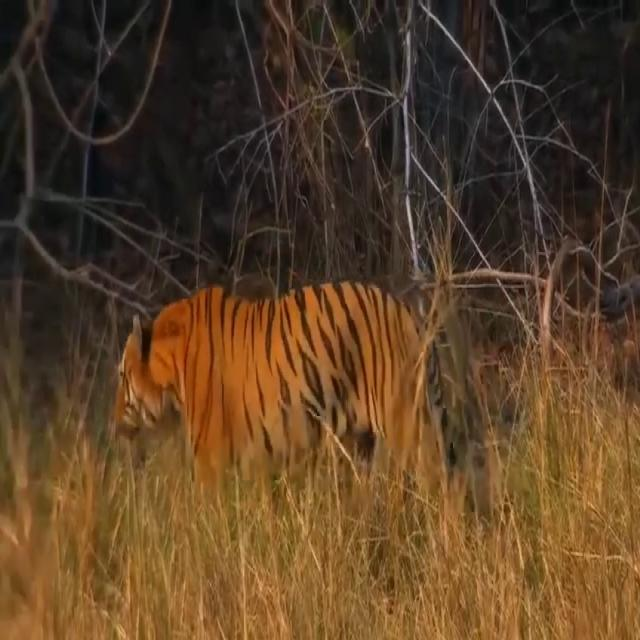tiger: (114, 282, 478, 512)
